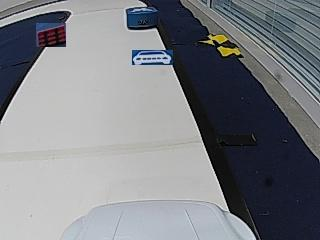prop: (126, 7, 159, 30)
